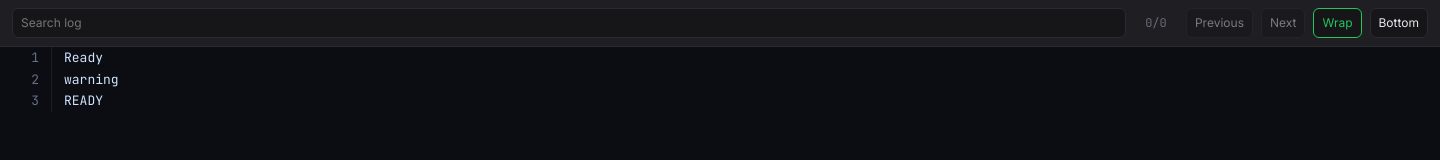
Test: LogViewer › renders line numbers and navigates search matches
expect the text "1" is shown: met, box [0,47,52,68]
expect the text "3" is shown: met, box [0,90,52,112]
In the search field labelled "Search log": (569, 23) [12,8,1126,38], type "ready"
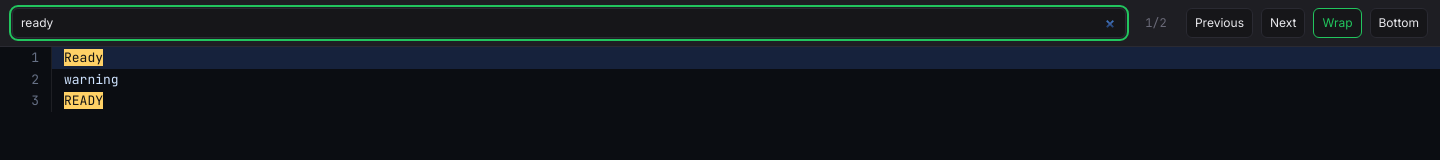
expect the text "1/2" is shown: met, box [1145,15,1167,31]
Click the button "Next": (1283, 23) [1261,8,1306,38]
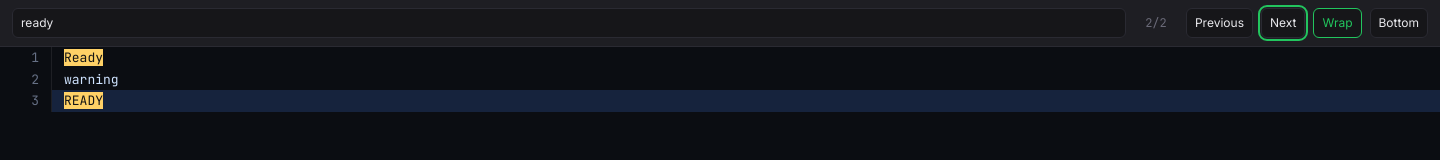
expect the text "2/2" is shown: met, box [1145,15,1167,31]
